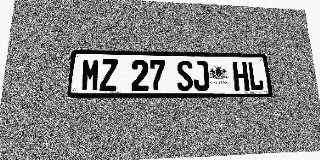2: (131, 59, 148, 91)
7: (149, 60, 165, 91)
H: (232, 61, 249, 91)
J: (192, 61, 210, 91)
L: (247, 62, 264, 91)
M: (81, 59, 100, 91)
S: (176, 60, 193, 91)
Z: (99, 59, 118, 91)
